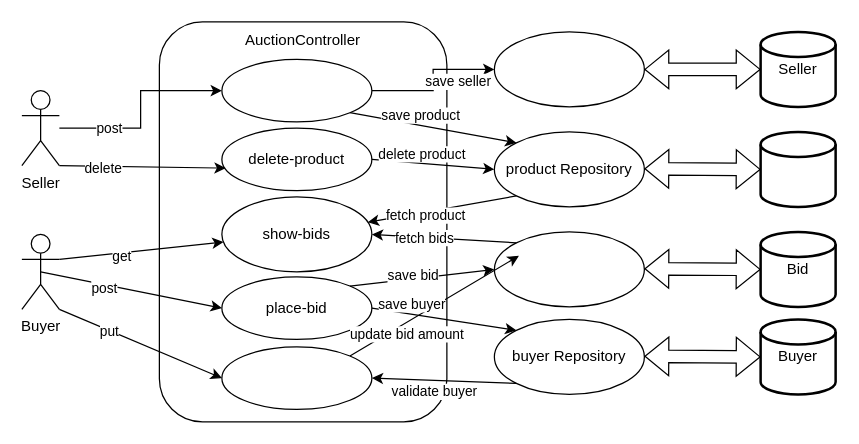
Some shapes in this 859 by 444 pixel diagram are drawn without their labels. The shapes that lost their labels are listed below. From the top down, each one's centre as x and y in pixels, then its label:
the point at 568,69: seller Repository
the point at 296,90: add-product
the point at 797,169: Product
the point at 568,269: bid Repository
the point at 296,377: update-bidamount
